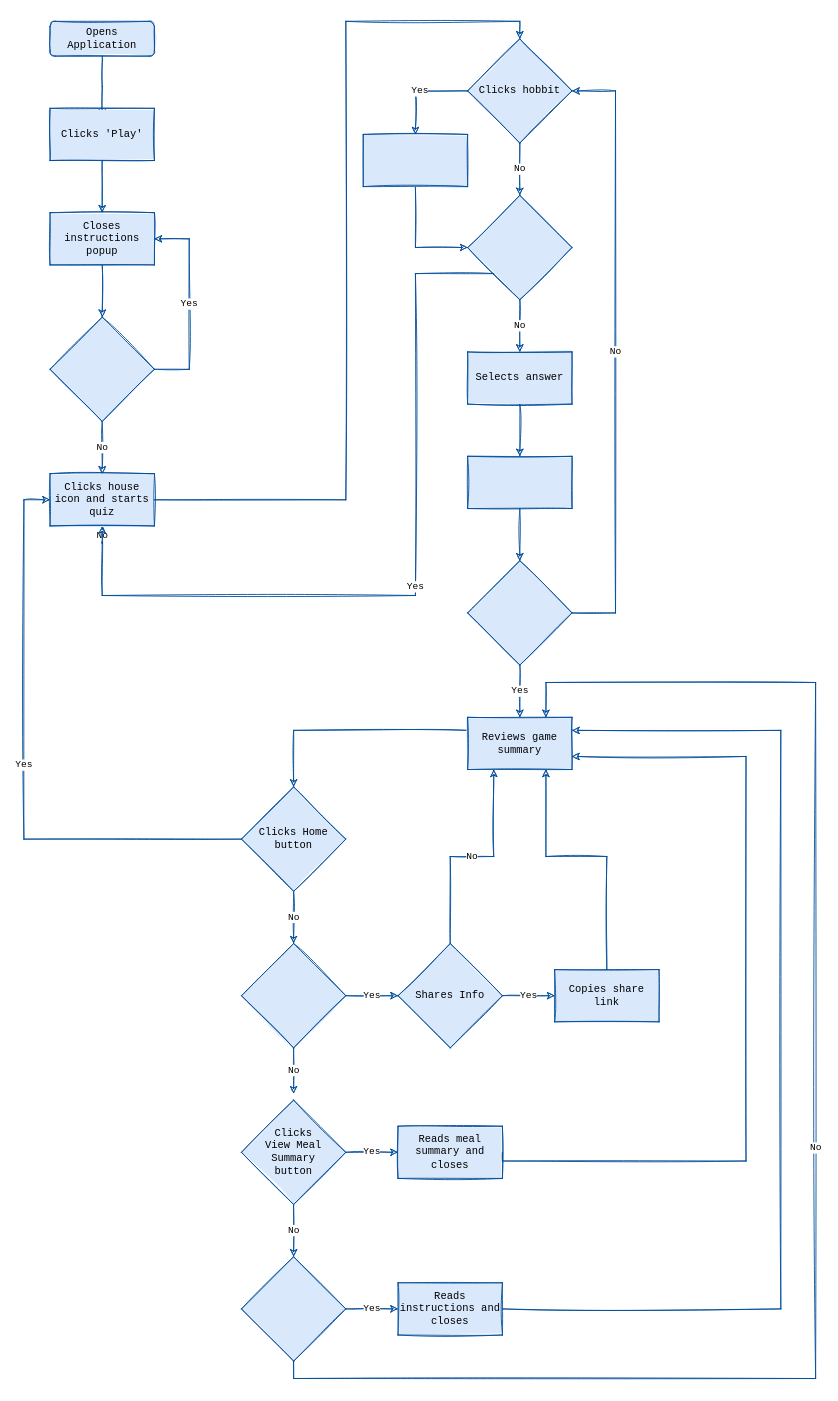
The diagram is 838 pixels wide and 1401 high, and some of its shapes have lost their labels. Each missing label, with the centre of its shape:
"Clicks exit button" goes at point 519,247.
"Clicks help button" goes at point 293,1308.
"Clicks Share button" goes at point 293,995.
"Is final meal?" goes at point 519,612.
"Opens instructions?" goes at point 101,369.
"Reads new hobbit phrase" goes at point 415,160.
"Reviews answer and continues quiz" goes at point 519,482.
